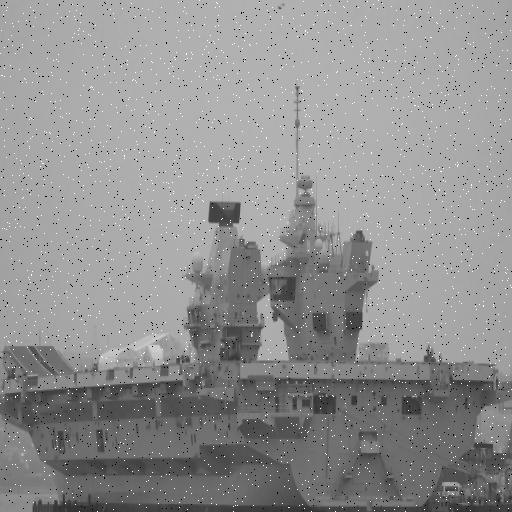Portanaves: (1, 71, 510, 512)
